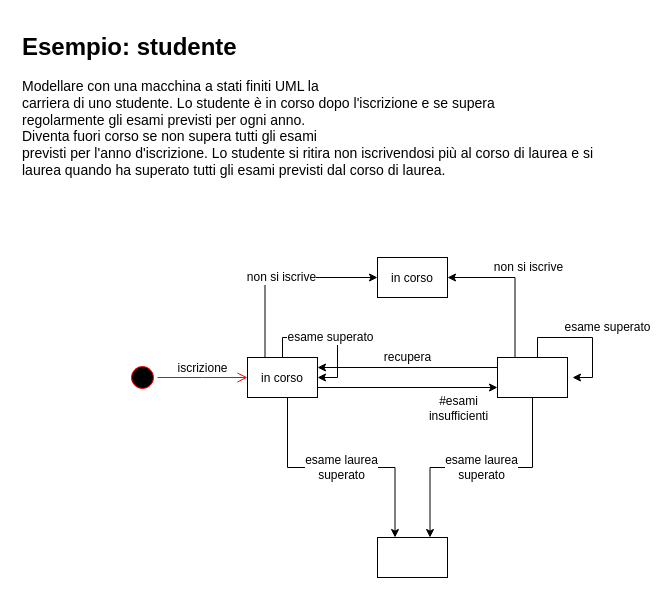
This 667x595 diagram has some shape labels left out. The box of each missing label's shape, as (x1, y1, x2, y2) in pixels:
fuori corso: (496, 356, 568, 398)
laureato: (376, 536, 448, 578)
